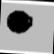correct: (5, 8, 34, 36)
